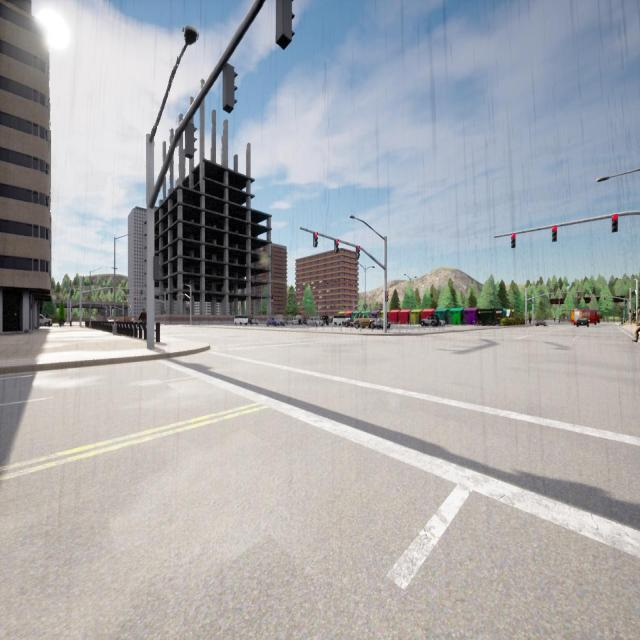Pedestrian: (635, 308, 640, 344), (139, 308, 146, 321), (553, 316, 556, 322), (529, 316, 531, 324)
Vehicle: (572, 310, 599, 324), (354, 314, 374, 328), (421, 315, 438, 327), (333, 316, 350, 326), (372, 320, 390, 329), (40, 314, 51, 326), (234, 316, 248, 325), (267, 319, 284, 326), (307, 318, 320, 326), (320, 315, 329, 326), (577, 318, 589, 326), (536, 320, 546, 326), (292, 319, 298, 325), (251, 320, 259, 324)
traffic_light: (276, 0, 295, 50), (223, 64, 238, 114), (186, 122, 197, 160), (153, 256, 160, 280), (612, 214, 617, 232), (552, 226, 557, 241), (313, 233, 318, 247), (511, 234, 516, 247), (356, 246, 360, 258), (335, 240, 338, 251), (385, 291, 388, 301), (124, 296, 126, 301), (604, 296, 606, 300), (629, 309, 631, 313), (134, 296, 136, 300), (164, 310, 166, 314), (578, 296, 580, 299), (590, 296, 592, 299)
